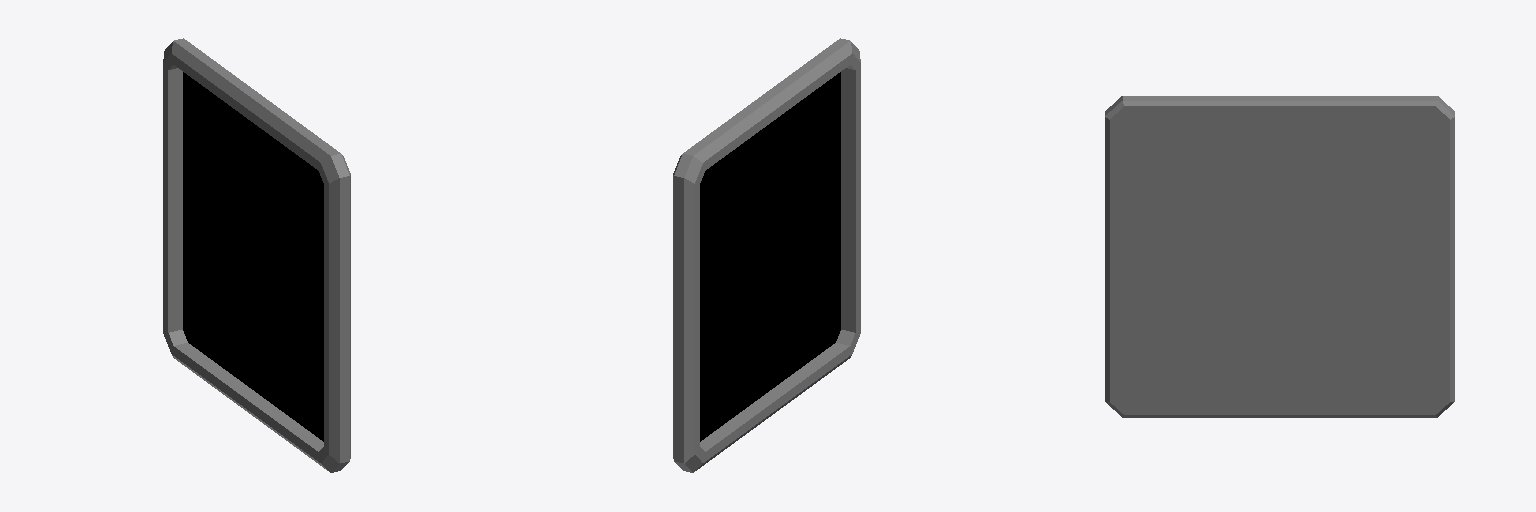
Rendered from SolarPanelShape.obj.
3 views of the same model, side by side, from view 1: azimuth 30°, elevation 25°; view 2: azimuth 150°, elevation 25°; view 3: azimuth 270°, elevation 25° (orthographic).
Visible parts, largest first — view 1: Shape_立方体.008; view 2: Shape_立方体.008; view 3: Shape_立方体.008.
Boxes of the visible parts, x1,y1,x2,y2 form: Shape_立方体.008: [163, 38, 350, 472]; Shape_立方体.008: [673, 38, 860, 472]; Shape_立方体.008: [1105, 96, 1454, 417].
Bounding box in the file's own units: 0.1307 × 2 × 2.